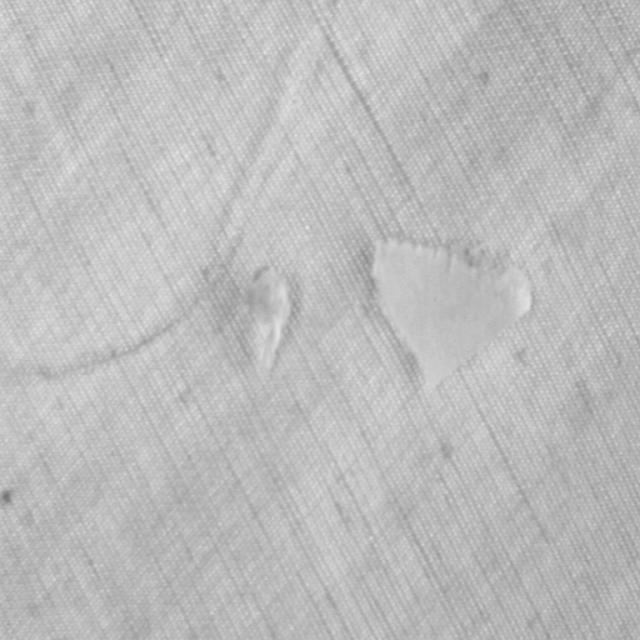objects: (0, 228, 238, 387), (368, 230, 538, 389), (242, 258, 299, 380)
